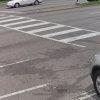Crosswalk: (5, 6, 100, 60)
